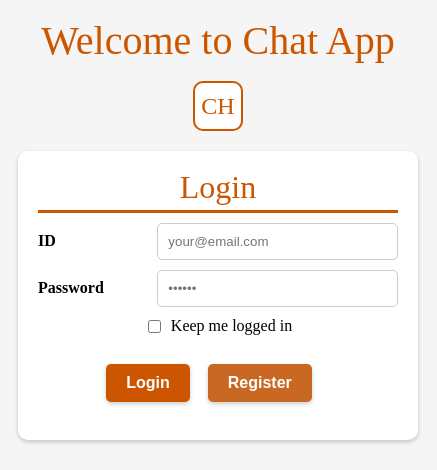
Login Component › handleusernameOnChange clears general error message
The image size is (437, 470).
Step 1. Type "user@email.com" into the field labelled "ID" → (278, 241), box [157, 222, 398, 260]
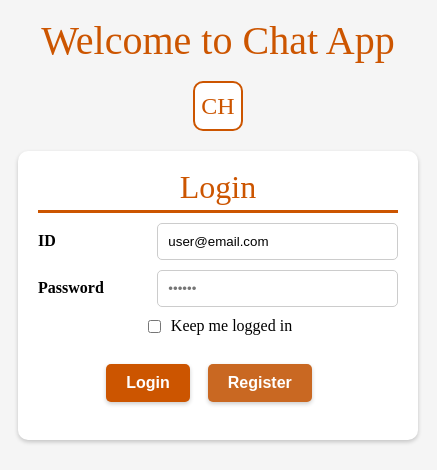
Step 2. Type "Password123" into the password field labelled "Password" → (278, 288), box [157, 270, 398, 306]
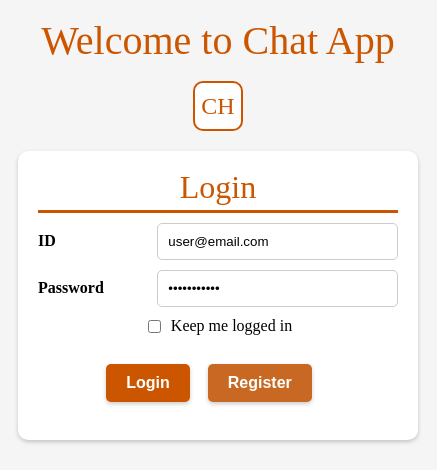
Step 3. Click the button "Login" → (148, 382), box [106, 364, 190, 402]
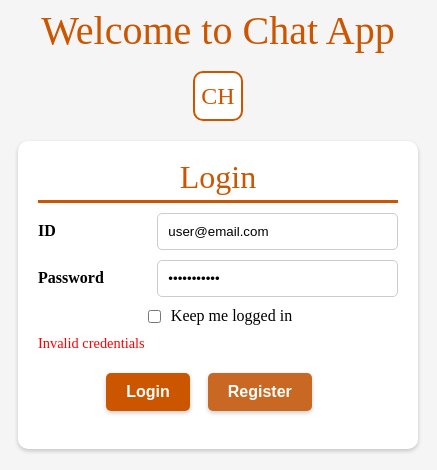
Check: the text "Invalid credentials" is shown, box [38, 335, 145, 351]
Step 4. Replace the text in the field labelled "ID" with "b" → (278, 231), box [157, 213, 398, 250]
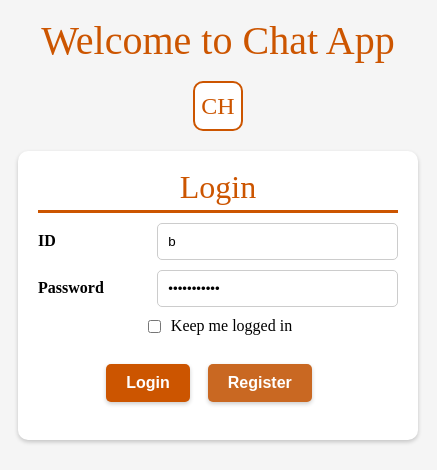
Check: the text "Invalid credentials" is gone
